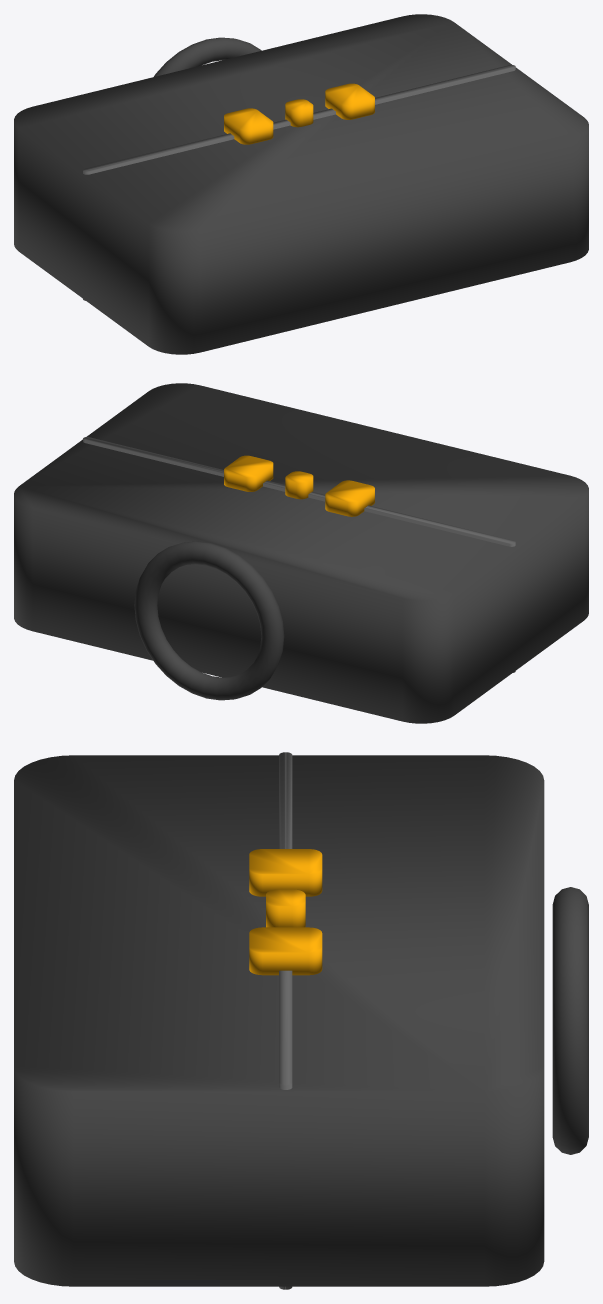
The model's file is briefcase.glb.
3 renders of one model, top to bottom at view 1: azimuth 30°, elevation 25°; view 2: azimuth 150°, elevation 25°; view 3: azimuth 270°, elevation 25°, orthographic. The views are drawn at different scales.
Parts seen in each view (by area): view 1: BriefBody, BriefSeam, BriefHandle, BriefClaspL, BriefClaspR, BriefBar; view 2: BriefBody, BriefHandle, BriefSeam, BriefClaspL, BriefClaspR, BriefBar; view 3: BriefBody, BriefHandle, BriefClaspR, BriefClaspL, BriefSeam, BriefBar.
Part boxes in pixels (box(x1,y1,x2,y2)): BriefBody: box(14, 14, 588, 354); BriefSeam: box(83, 65, 515, 300); BriefHandle: box(154, 37, 261, 76); BriefClaspL: box(224, 108, 273, 144); BriefClaspR: box(325, 83, 374, 119); BriefBar: box(285, 99, 313, 127); BriefBody: box(14, 383, 588, 723); BriefHandle: box(134, 541, 284, 700); BriefSeam: box(83, 437, 515, 672); BriefClaspL: box(325, 480, 374, 516); BriefClaspR: box(224, 455, 273, 491); BriefBar: box(285, 471, 313, 499); BriefBody: box(14, 755, 544, 1286); BriefHandle: box(552, 887, 588, 1154); BriefClaspR: box(249, 927, 322, 975); BriefClaspL: box(249, 849, 322, 896); BriefSeam: box(279, 752, 292, 1289); BriefBar: box(266, 889, 305, 927).
Bounding box in the file's own units: 2.4 × 0.815 × 1.74.
